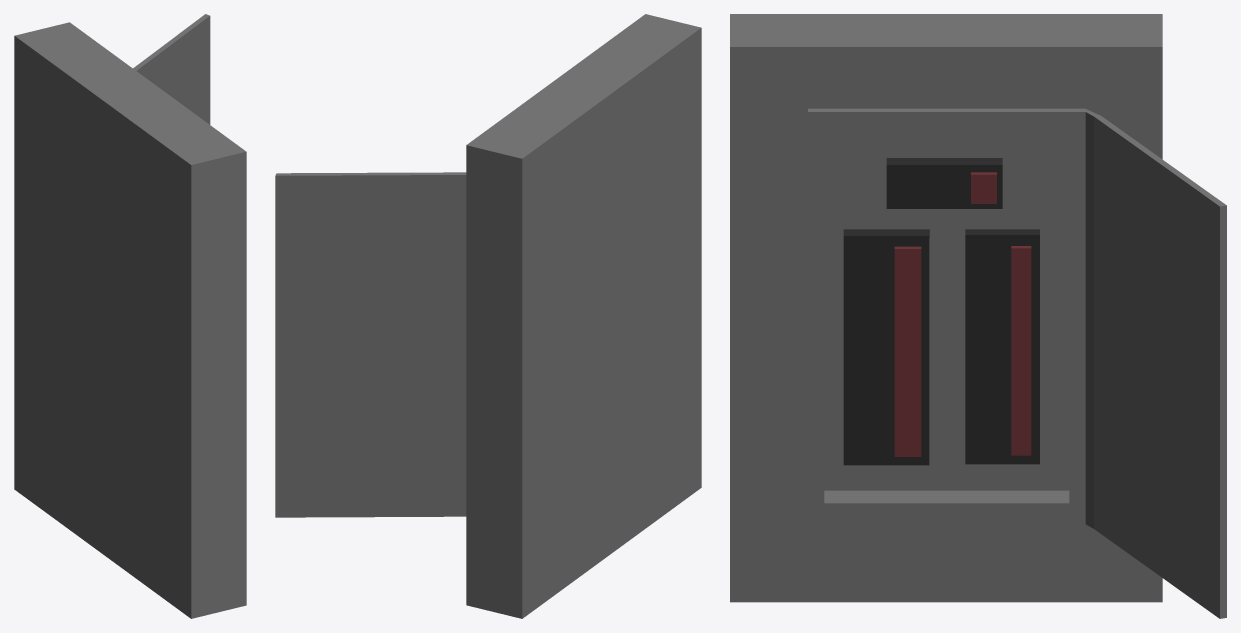
File: breaker.fbx
The picture shows the model from 3 angles, left to right: view 1: azimuth 30°, elevation 25°; view 2: azimuth 150°, elevation 25°; view 3: azimuth 270°, elevation 25°; orthographic projection. The views are drawn at different scales.
Visible parts, largest first — view 1: breaker; view 2: breaker; view 3: breaker.
Part boxes in pixels (<box>): breaker: <box>14,14,246,618</box>; breaker: <box>275,14,701,618</box>; breaker: <box>730,14,1226,618</box>.
Bounding box in the file's own units: 289 × 571 × 463.
